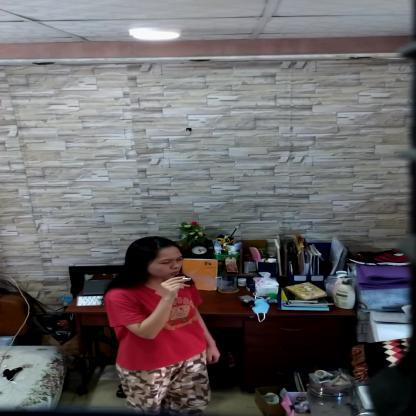cigarette: (182, 277, 192, 280)
person: (106, 235, 227, 415)
smoke: (217, 279, 226, 289)
